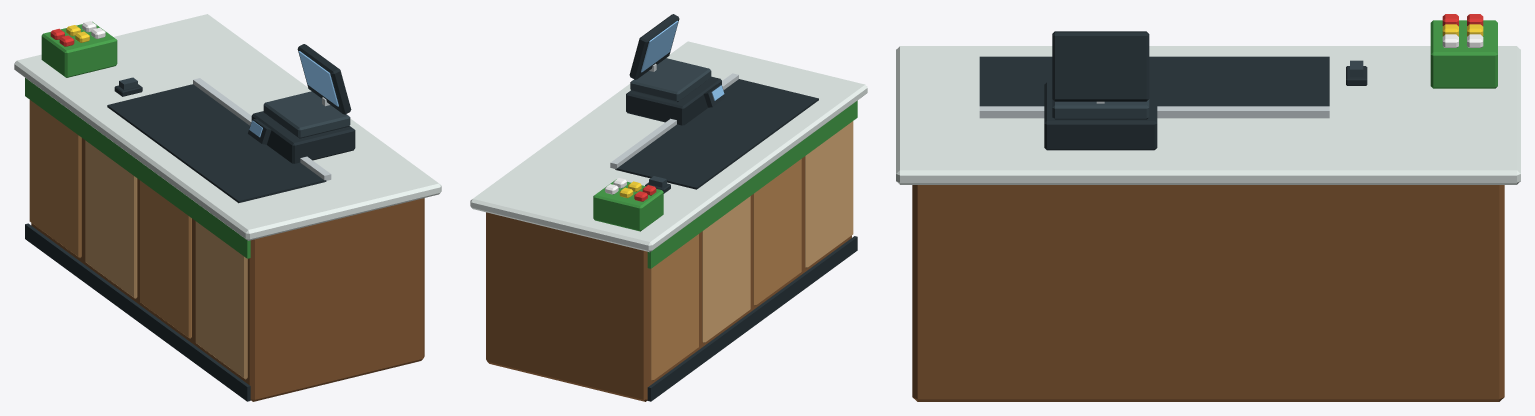
The model's file is Kasa_Tezgah.fbx.
3 renders of one model, left to right at view 1: azimuth 30°, elevation 25°; view 2: azimuth 150°, elevation 25°; view 3: azimuth 270°, elevation 25°, orthographic. The views are drawn at different scales.
Visible parts, largest first — view 1: Kasa_Tezgah; view 2: Kasa_Tezgah; view 3: Kasa_Tezgah.
Boxes of the visible parts, bbox=[...] form: Kasa_Tezgah: bbox=[14, 14, 441, 401]; Kasa_Tezgah: bbox=[470, 14, 867, 401]; Kasa_Tezgah: bbox=[896, 14, 1520, 401].
Size of the model in its own units: 112 by 143 by 232.
